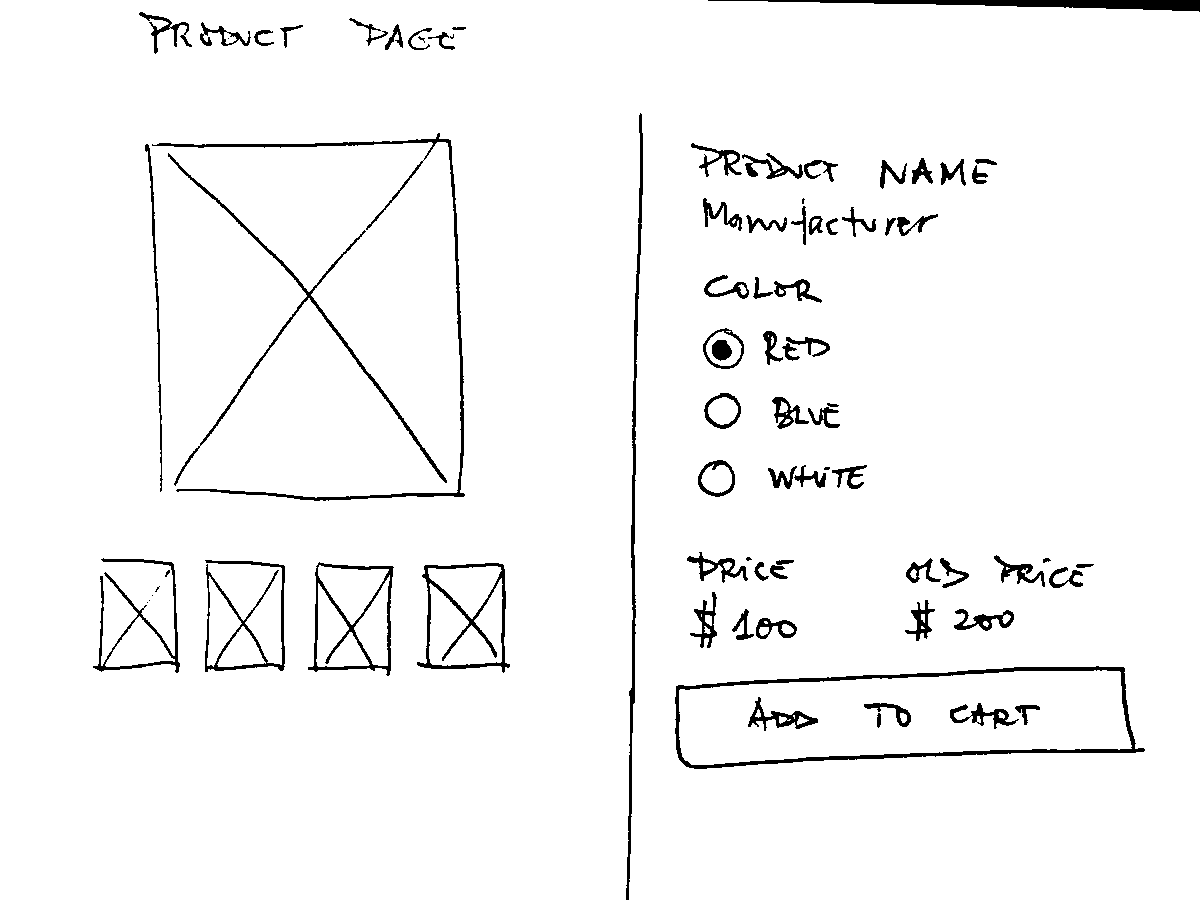Button: (670, 662, 1148, 770)
Image: (142, 135, 476, 504), (201, 553, 292, 675), (95, 553, 185, 673), (421, 559, 513, 673), (310, 557, 395, 675)
Radio Button: (696, 451, 870, 503), (698, 388, 842, 438), (698, 323, 836, 372)
